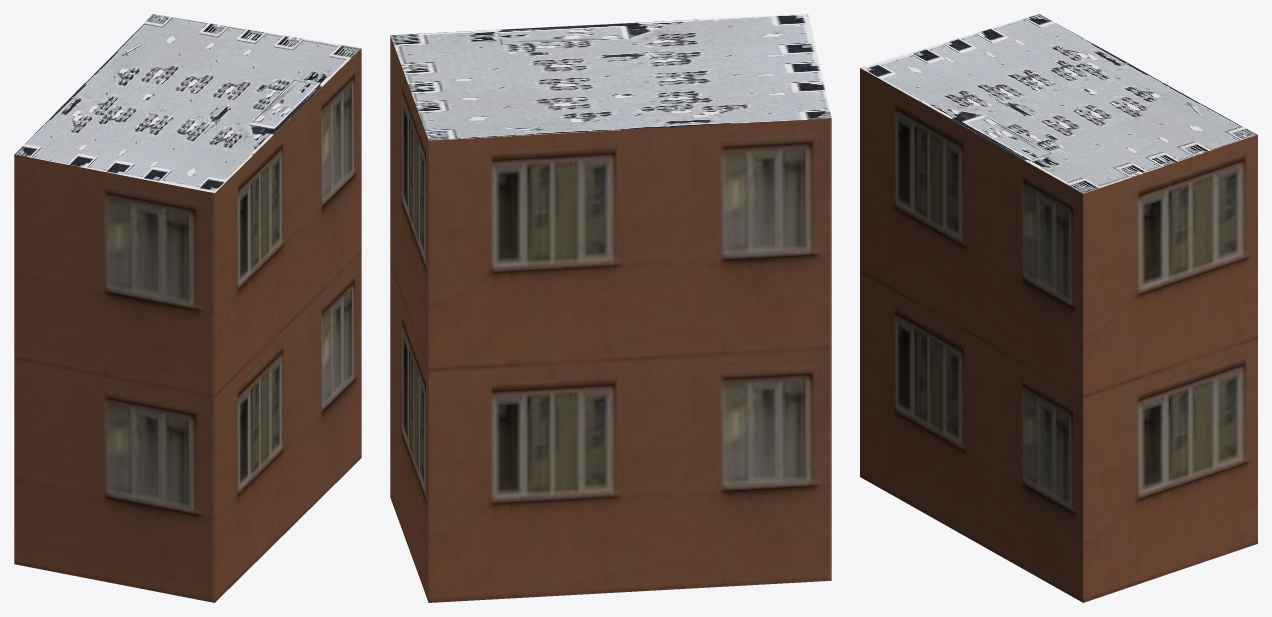
Rendered from ResTex__3953.fbx.
The picture shows the model from 3 angles, left to right: view 1: azimuth 30°, elevation 25°; view 2: azimuth 150°, elevation 25°; view 3: azimuth 270°, elevation 25°; orthographic projection. The views are drawn at different scales.
Parts seen in each view (by area): view 1: CityEngineMaterial_20_m, CityEngineMaterial_4_m; view 2: CityEngineMaterial_20_m, CityEngineMaterial_4_m; view 3: CityEngineMaterial_20_m, CityEngineMaterial_4_m.
Part boxes in pixels (<box>): CityEngineMaterial_20_m: <box>14,48,361,602</box>; CityEngineMaterial_4_m: <box>14,14,360,193</box>; CityEngineMaterial_20_m: <box>390,36,831,602</box>; CityEngineMaterial_4_m: <box>390,14,831,140</box>; CityEngineMaterial_20_m: <box>860,68,1257,602</box>; CityEngineMaterial_4_m: <box>860,14,1257,193</box>.
Size of the model in its own units: 5.66 by 6 by 5.29.
Materials: 2 (2 with a texture image).
